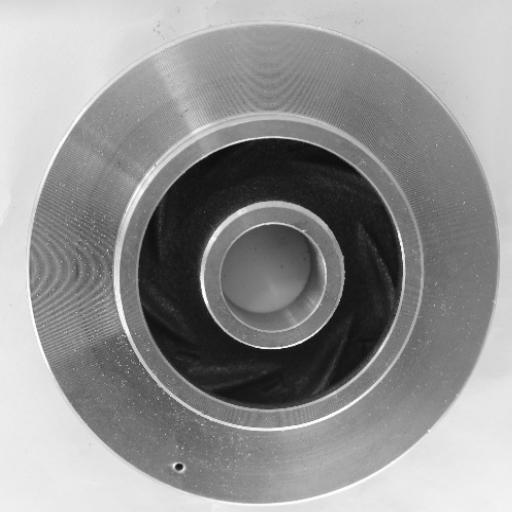pit: (167, 453, 194, 478)
unpolished_casting: (28, 19, 499, 506)
